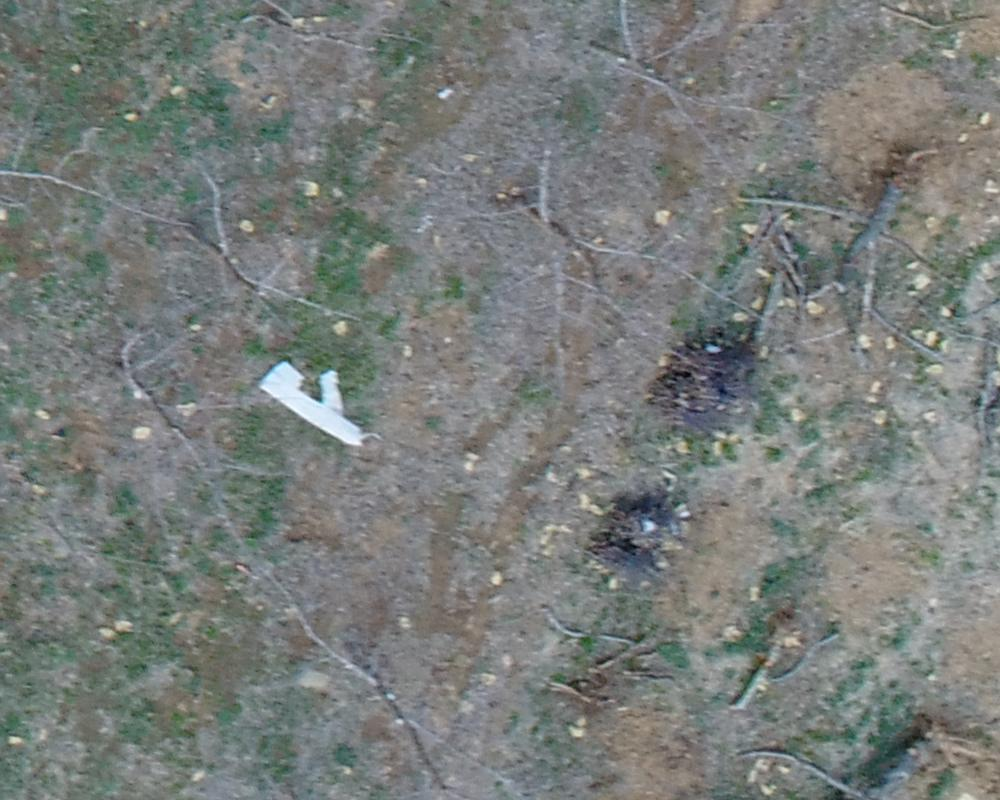apple: (482, 137, 764, 375), (138, 169, 364, 366), (10, 55, 187, 290), (541, 10, 776, 163), (285, 613, 485, 790), (82, 349, 281, 496)
